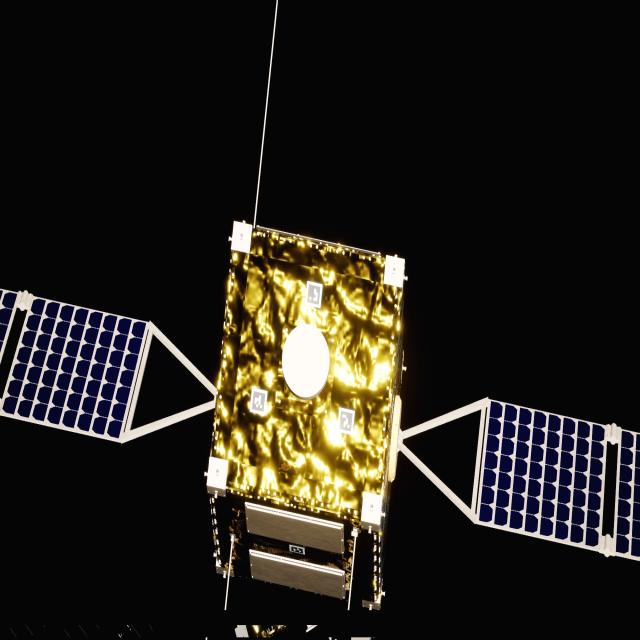satellite: (0, 222, 640, 617)
